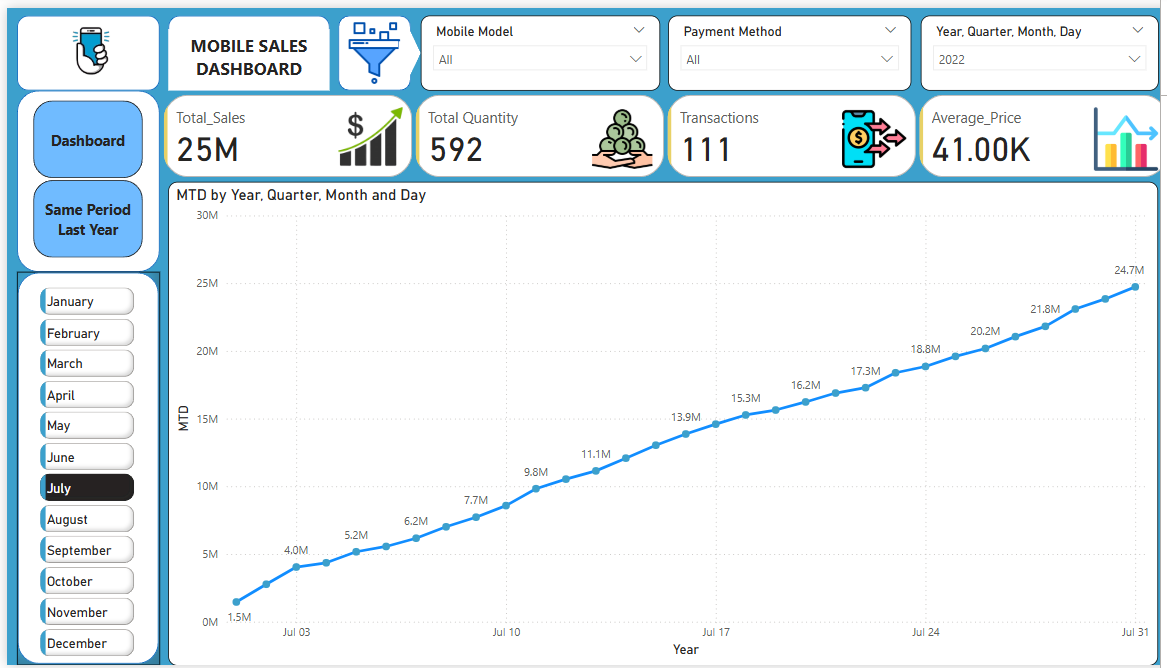

The page's visual inventory and layout, read from the dashboard file:
{"tool":"powerbi","page":{"name":"MTD Report ","canvas":[1280,720],"ordinal":1},"visuals":[{"type":"shape","box":[11,8.2,156.4,82.3],"z":0},{"type":"image","box":[16.5,8.2,150.9,82.3],"z":1000},{"type":"shape","box":[11,90.6,156.4,199],"z":2000},{"type":"cardVisual","fields":{"Data":["Sales_Data.Total_Sales","Sales_Data.Total Quantity","Sales_Data.Transactions","Sales_Data.Average_Price"]},"box":[167.4,90.6,1112.9,100.2],"z":3000},{"type":"slicer","fields":{"Values":["Sales_Data.Mobile Model"]},"box":[452.8,8.2,262.1,82.3],"z":4000},{"type":"slicer","fields":{"Values":["Sales_Data.Payment Method"]},"box":[724.5,8.2,266.2,82.3],"z":5000},{"type":"shape","box":[363.6,8.2,79.6,82.3],"z":6000},{"type":"slicer","fields":{"Values":["Custum_Calender.Date.Variation.Date Hierarchy.Year","Custum_Calender.Date.Variation.Date Hierarchy.Quarter","Custum_Calender.Date.Variation.Date Hierarchy.Month","Custum_Calender.Date.Variation.Date Hierarchy.Day"]},"box":[1001.7,8.2,260.7,82.3],"z":7000},{"type":"image","box":[363.6,8.2,79.6,82.3],"z":8000},{"type":"shape","box":[428.1,23.3,24.7,52.1],"z":9000},{"type":"shape","box":[177,8.2,177,82.3],"z":10000},{"type":"textbox","box":[177,23.3,177,67.2],"z":11000},{"type":"lineChart","fields":{"Category":["Custum_Calender.Date.Variation.Date Hierarchy.Year","Custum_Calender.Date.Variation.Date Hierarchy.Quarter","Custum_Calender.Date.Variation.Date Hierarchy.Month","Custum_Calender.Date.Variation.Date Hierarchy.Day"],"Y":["Sales_Data.MTD"]},"box":[176.7,190.4,1084.9,530.1],"z":12000},{"type":"shape","box":[11,289.1,156.4,430.9],"z":13000},{"type":"advancedSlicerVisual","fields":{"Values":["Custum_Calender.Date.Variation.Date Hierarchy.Month"]},"box":[31.6,301.5,113.9,418.5],"z":14000},{"type":"pageNavigator","box":[28.8,101.4,120.5,174],"z":14001}]}

Visuals, with their boxes in screenshot pixels (x1, y1, x2, y2), scaled from the page's 1280x720 canvas onto the 1167x668 screenshot:
shape: pyautogui.locateOnScreen(10, 8, 153, 84)
image: pyautogui.locateOnScreen(15, 8, 153, 84)
shape: pyautogui.locateOnScreen(10, 84, 153, 269)
cardVisual - Sales_Data.Total_Sales x Sales_Data.Total Quantity: pyautogui.locateOnScreen(153, 84, 1166, 177)
slicer - Sales_Data.Mobile Model: pyautogui.locateOnScreen(413, 8, 652, 84)
slicer - Sales_Data.Payment Method: pyautogui.locateOnScreen(661, 8, 903, 84)
shape: pyautogui.locateOnScreen(332, 8, 404, 84)
slicer - Custum_Calender.Date.Variation.Date Hierarchy.Year x Custum_Calender.Date.Variation.Date Hierarchy.Quarter: pyautogui.locateOnScreen(913, 8, 1151, 84)
image: pyautogui.locateOnScreen(332, 8, 404, 84)
shape: pyautogui.locateOnScreen(390, 22, 413, 70)
shape: pyautogui.locateOnScreen(161, 8, 323, 84)
textbox: pyautogui.locateOnScreen(161, 22, 323, 84)
lineChart - Custum_Calender.Date.Variation.Date Hierarchy.Year x Custum_Calender.Date.Variation.Date Hierarchy.Quarter: pyautogui.locateOnScreen(161, 177, 1150, 667)
shape: pyautogui.locateOnScreen(10, 268, 153, 667)
advancedSlicerVisual - Custum_Calender.Date.Variation.Date Hierarchy.Month: pyautogui.locateOnScreen(29, 280, 133, 667)
pageNavigator: pyautogui.locateOnScreen(26, 94, 136, 256)
